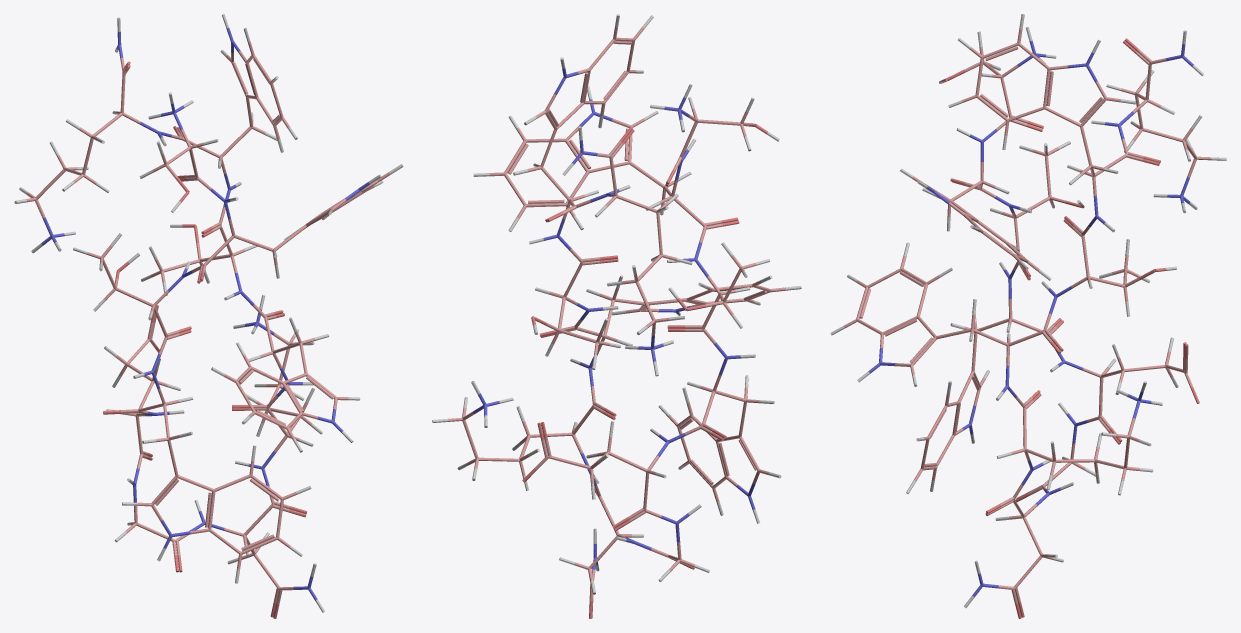
Rendered from 1le0__lines__default.glb.
3 views of the same model, side by side, from view 1: azimuth 30°, elevation 25°; view 2: azimuth 150°, elevation 25°; view 3: azimuth 270°, elevation 25° (orthographic). The views are drawn at different scales.
Visible parts, largest first — view 1: Renderer Node; view 2: Renderer Node; view 3: Renderer Node.
Part boxes in pixels (x1,y1,x2,y2): Renderer Node: (14,14,403,618); Renderer Node: (432,14,801,618); Renderer Node: (830,14,1226,618).
Bounding box in the file's own units: 11.75 × 23.18 × 14.09.
